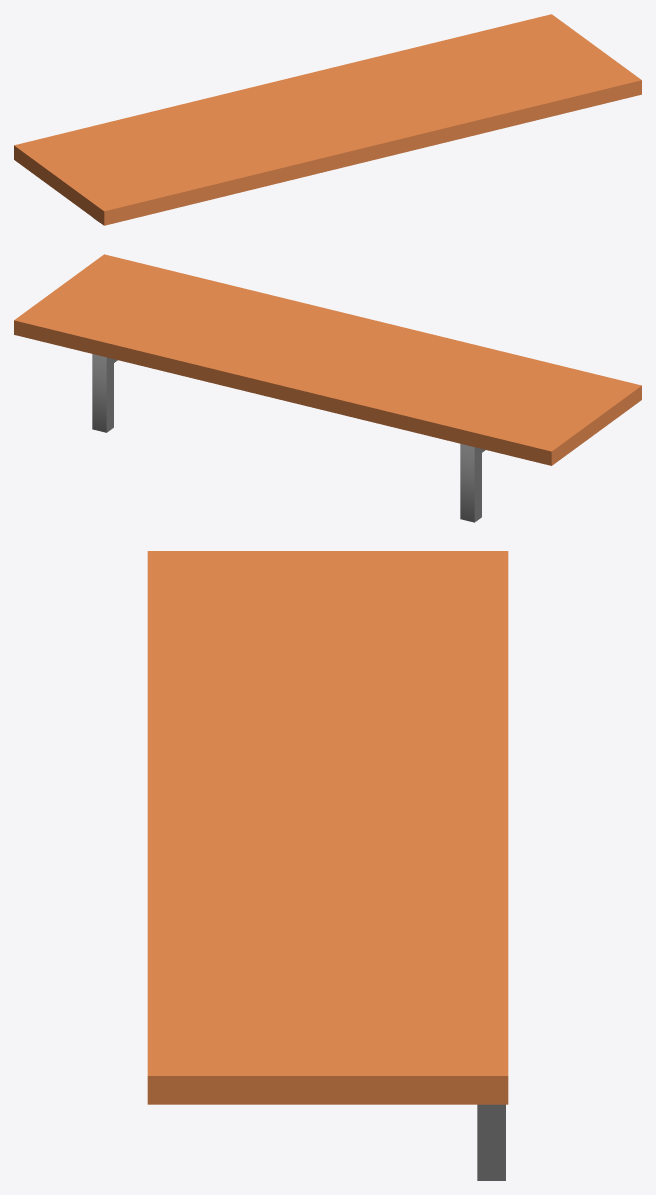
File: SoportePared01.fbx
3 views of the same model, one above another, from view 1: azimuth 30°, elevation 25°; view 2: azimuth 150°, elevation 25°; view 3: azimuth 270°, elevation 25° (orthographic). The views are drawn at different scales.
Parts seen in each view (by area): view 1: SoportePared01; view 2: SoportePared01; view 3: SoportePared01.
Boxes of the visible parts, x1,y1,x2,y2 form: SoportePared01: (14,14,641,225); SoportePared01: (14,254,641,522); SoportePared01: (147,551,508,1180).
Size of the model in its own units: 179 by 28.74 by 51.96.
